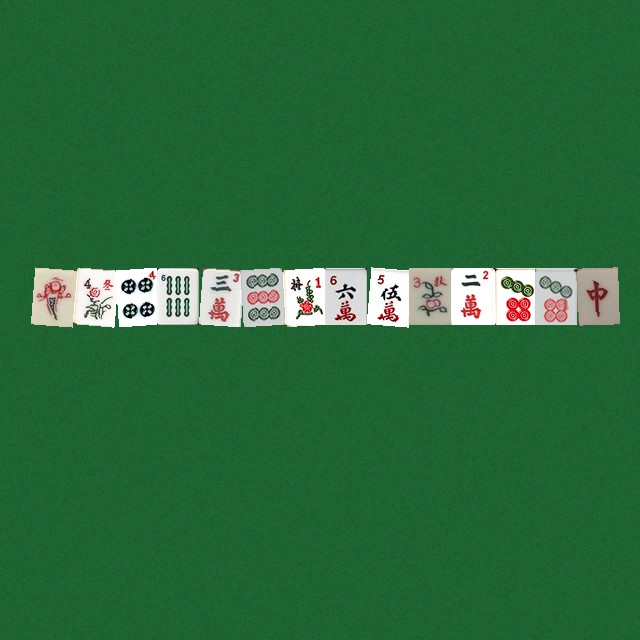tile: (30, 267, 72, 324), (72, 267, 114, 324), (114, 267, 156, 324), (156, 267, 198, 324), (198, 267, 240, 324), (240, 267, 282, 324), (282, 267, 324, 324), (324, 267, 366, 324), (366, 267, 408, 324), (408, 267, 450, 324), (450, 267, 492, 324), (492, 267, 534, 324), (534, 267, 576, 324), (576, 267, 618, 324)
